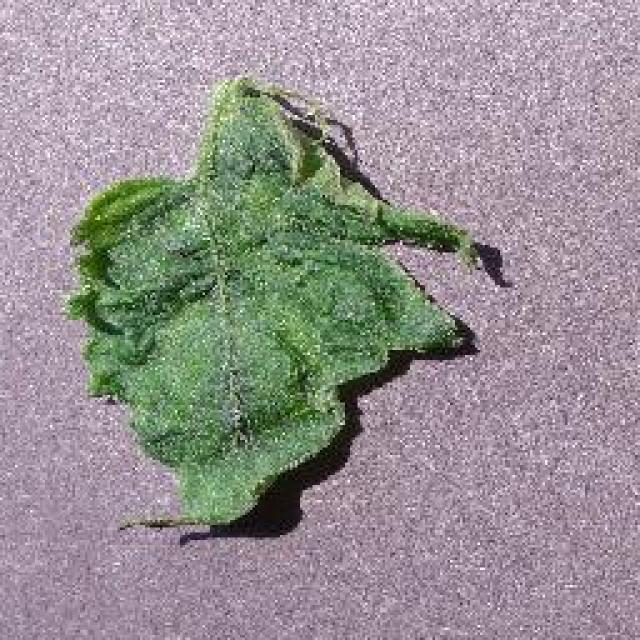Tomato___Tomato_mosaic_virus: (68, 78, 478, 522)
